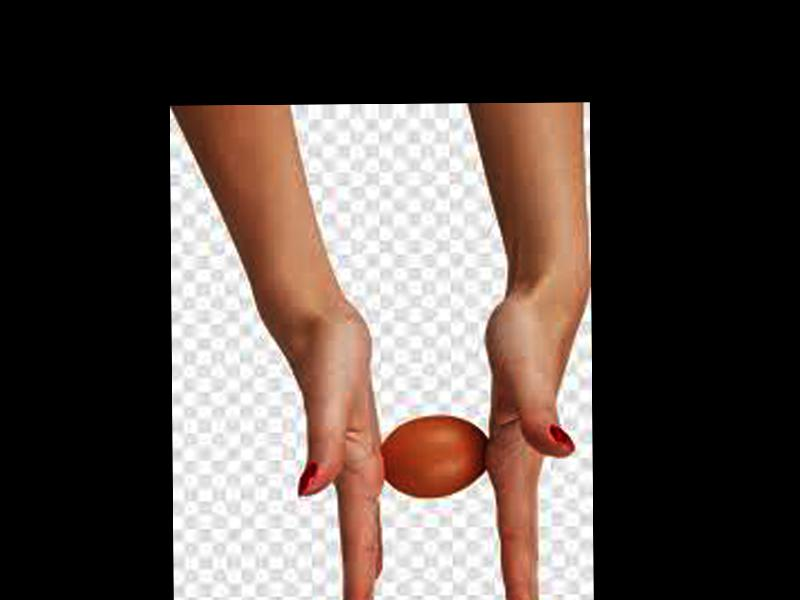Eggs: (380, 415, 486, 495)
